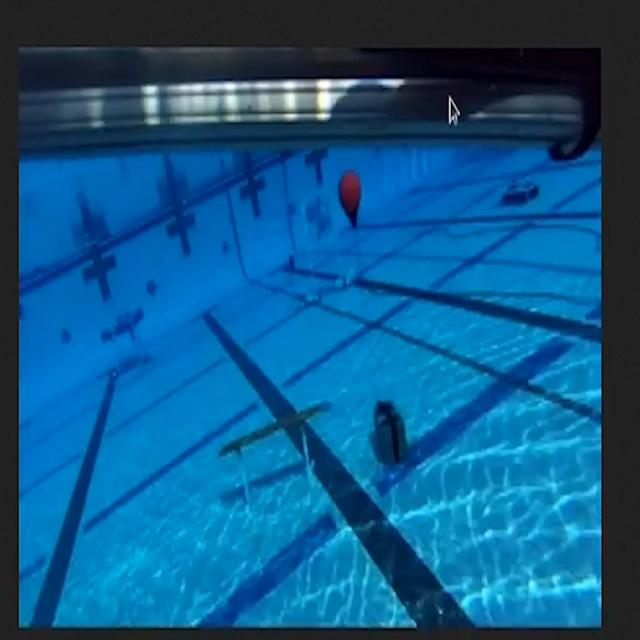Buoy: (330, 162, 374, 252)
Path: (204, 388, 342, 522)
